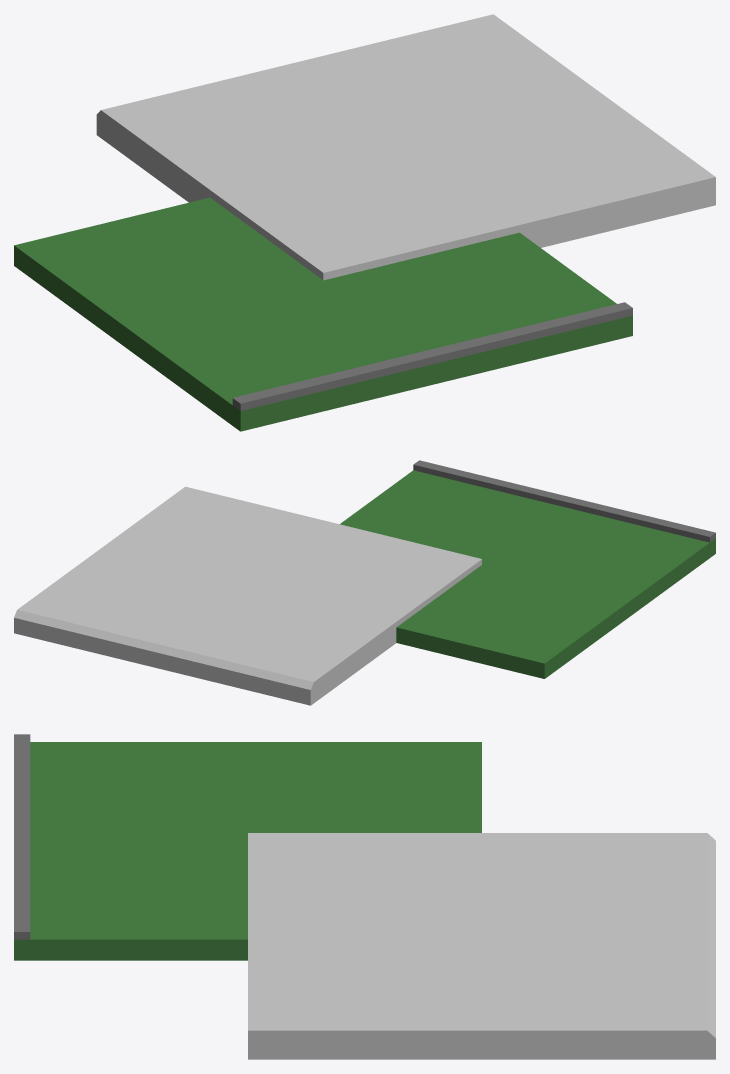
File: SM_Factory_Grass_02.fbx
3 views of the same model, one above another, from view 1: azimuth 30°, elevation 25°; view 2: azimuth 150°, elevation 25°; view 3: azimuth 270°, elevation 25° (orthographic). The views are drawn at different scales.
Visible parts, largest first — view 1: SM_Factory_Grass_02_ConvexHulls, SM_Factory_Grass_02; view 2: SM_Factory_Grass_02_ConvexHulls, SM_Factory_Grass_02; view 3: SM_Factory_Grass_02_ConvexHulls, SM_Factory_Grass_02.
Part boxes in pixels (x1,y1,x2,y2): SM_Factory_Grass_02_ConvexHulls: [96, 14, 715, 280]; SM_Factory_Grass_02: [14, 197, 632, 431]; SM_Factory_Grass_02_ConvexHulls: [14, 486, 481, 705]; SM_Factory_Grass_02: [340, 460, 715, 678]; SM_Factory_Grass_02_ConvexHulls: [248, 833, 715, 1059]; SM_Factory_Grass_02: [14, 734, 481, 960].
Bounding box in the file's own units: 750 × 750 × 34.29.
Materials: 2 (1 with a texture image).
